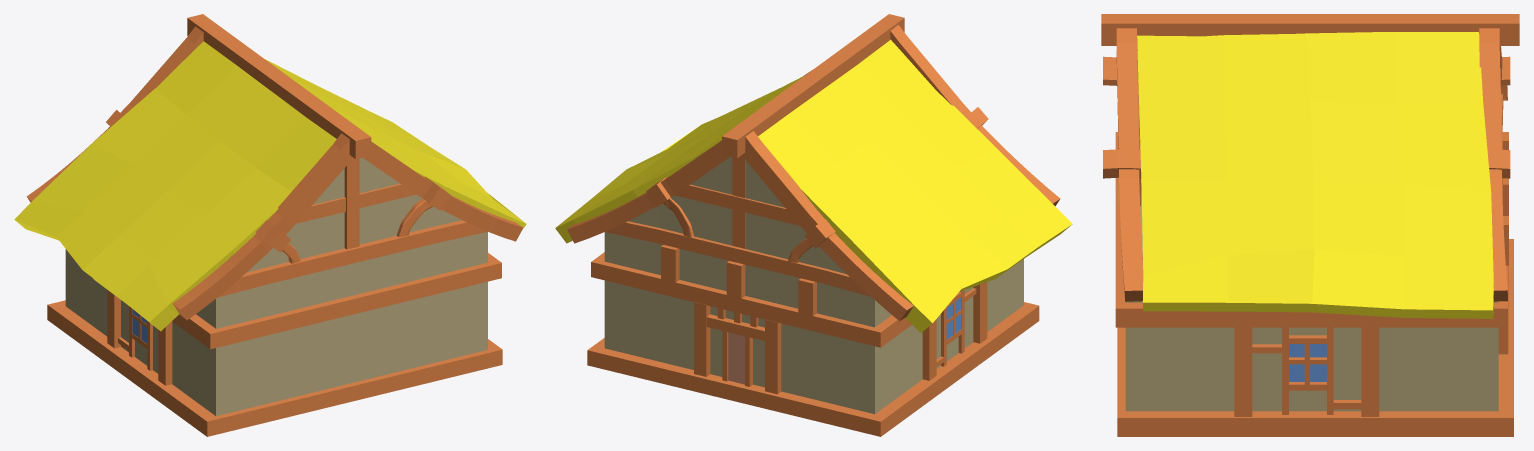
Rendered from Village House.fbx.
3 renders of one model, left to right at view 1: azimuth 30°, elevation 25°; view 2: azimuth 150°, elevation 25°; view 3: azimuth 270°, elevation 25°, orthographic. The views are drawn at different scales.
Parts seen in each view (by area): view 1: Plane.001, Plane, Cube.025, Cube.027, Cube.019, Plane.002, Cube, Cube.014, Cube.002, Cube.001, Cube.011, Cube.017 (+8 smaller); view 2: Plane.001, Plane, Cube.025, Cube.015, Cube.027, Plane.002, Cube, Cube.013, Cube.008, Cube.003, Cube.020, Cube.006 (+14 smaller); view 3: Plane.002, Plane, Cube.025, Cube, Cube.027, Plane.004, Cube.011, Cube.004, Cube.010, Cube.006, Cube.042, Cube.043 (+3 smaller).
Boxes of the visible parts, <box> form: Plane.001: <box>14,41,336,331</box>; Plane: <box>65,231,487,416</box>; Cube.025: <box>47,300,502,436</box>; Cube.027: <box>172,253,501,349</box>; Cube.019: <box>247,157,461,272</box>; Plane.002: <box>265,59,526,228</box>; Cube: <box>187,14,371,158</box>; Cube.014: <box>217,220,487,297</box>; Cube.002: <box>267,133,353,234</box>; Cube.001: <box>173,233,272,320</box>; Cube.011: <box>441,195,523,241</box>; Cube.017: <box>296,183,415,223</box>; Plane.001: <box>758,39,1072,332</box>; Plane: <box>604,232,1023,414</box>; Cube.025: <box>587,302,1039,436</box>; Cube.015: <box>628,156,846,274</box>; Cube.027: <box>591,252,911,347</box>; Plane.002: <box>555,75,804,243</box>; Cube: <box>722,14,904,158</box>; Cube.013: <box>605,221,870,296</box>; Cube.008: <box>742,131,824,233</box>; Cube.003: <box>819,233,913,321</box>; Cube.020: <box>675,184,799,225</box>; Cube.006: <box>567,192,655,243</box>; Plane.002: <box>1137,32,1493,318</box>; Plane: <box>1125,147,1498,411</box>; Cube.025: <box>1117,239,1513,436</box>; Cube: <box>1101,14,1519,45</box>; Cube.027: <box>1115,132,1507,327</box>; Plane.004: <box>1252,327,1361,414</box>; Cube.011: <box>1119,169,1143,301</box>; Cube.004: <box>1116,28,1139,149</box>; Cube.010: <box>1479,28,1501,149</box>; Cube.006: <box>1489,169,1507,301</box>; Cube.042: <box>1234,327,1252,416</box>; Cube.043: <box>1361,327,1379,416</box>.
Size of the model in its own units: 1335 by 883 by 1014.
